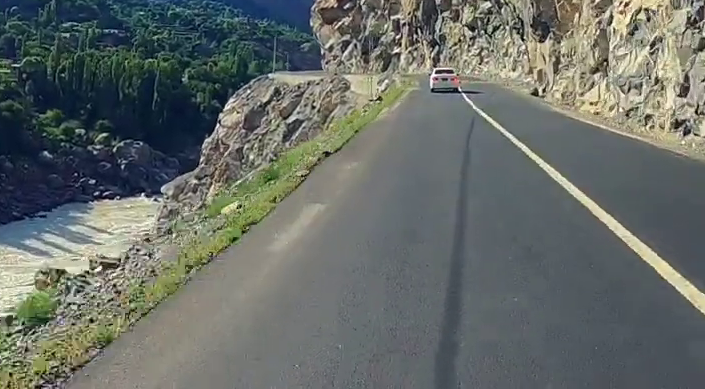left: (397, 108, 688, 329)
